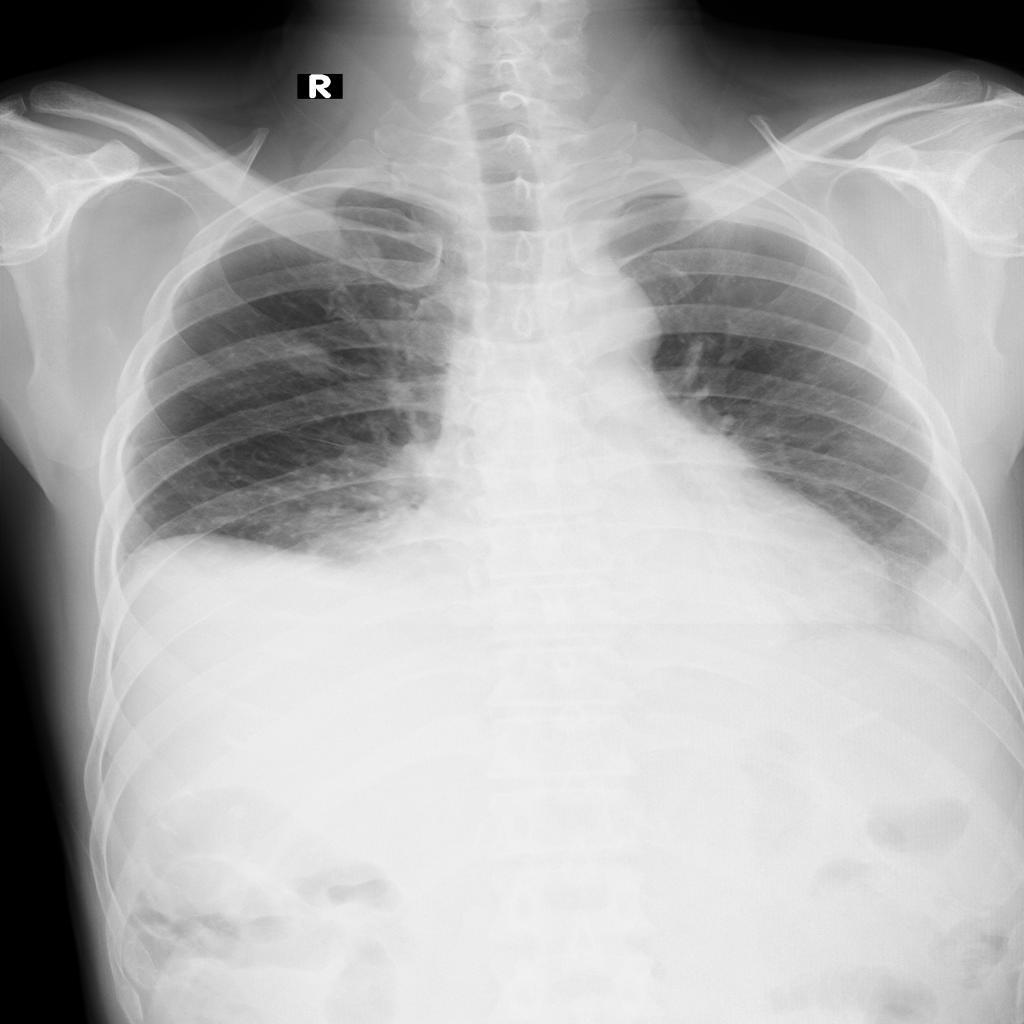Nodule: (915, 557, 985, 647), (291, 335, 337, 377)
